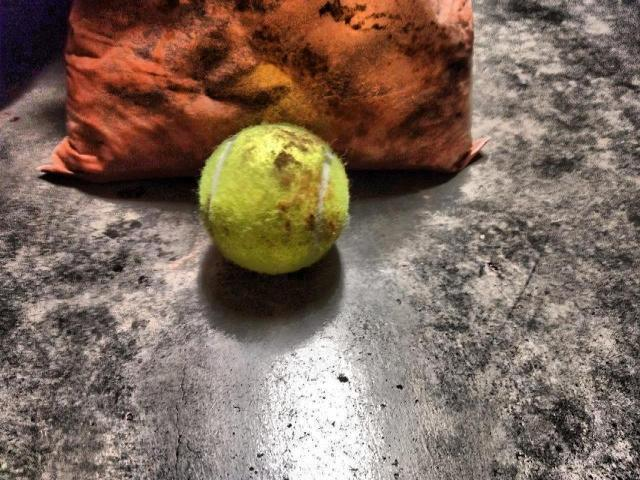tennis-ball: (198, 124, 348, 278)
